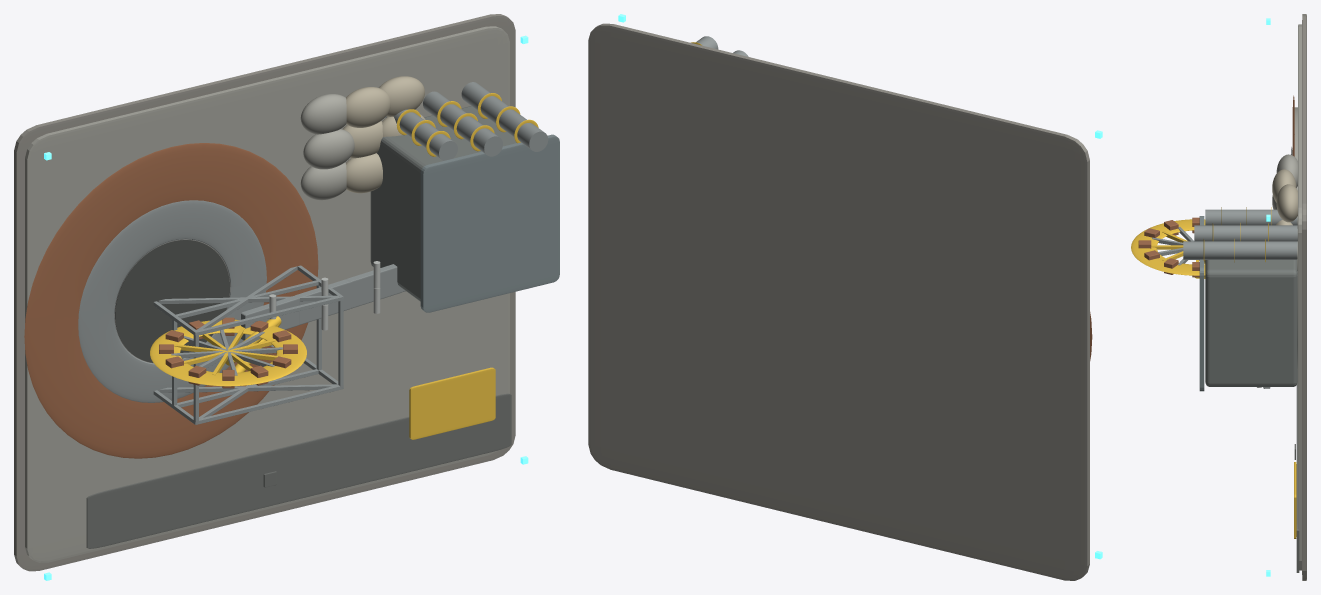
File: b-50-mineral-quarry-lod1.glb
The picture shows the model from 3 angles, left to right: view 1: azimuth 30°, elevation 25°; view 2: azimuth 150°, elevation 25°; view 3: azimuth 270°, elevation 25°; orthographic projection. The views are drawn at different scales.
Visible parts, largest first — view 1: foundation_inner_pad, quarry_terrace_outer, quarry_haul_road, quarry_crusher_house_roof, foundation, quarry_terrace_inner, quarry_cut, quarry_crusher_house_main_hall, quarry_pickup_socket, primary_bucket_wheel, dust_extractor_2_stack, dust_extractor_1_stack (+17 smaller); view 2: foundation; view 3: quarry_crusher_house_main_hall, foundation, dust_extractor_2_stack, foundation_inner_pad, dust_extractor_1_stack, primary_bucket_wheel, dust_extractor_0_stack, quarry_crusher_house_roof, mineral_stockpile_8, quarry_haul_road, mineral_stockpile_7, mineral_stockpile_6 (+1 smaller).
Part boxes in pixels (x1,y1,x2,y2): foundation_inner_pad: (25, 26, 509, 562); quarry_terrace_outer: (24, 143, 318, 458); quarry_haul_road: (86, 393, 511, 548); quarry_crusher_house_roof: (420, 134, 559, 312); foundation: (14, 14, 515, 571); quarry_terrace_inner: (78, 200, 266, 402); quarry_cut: (115, 240, 229, 362); quarry_crusher_house_main_hall: (370, 106, 516, 301); quarry_pickup_socket: (409, 367, 495, 439); primary_bucket_wheel: (150, 319, 306, 386); dust_extractor_2_stack: (461, 82, 548, 151); dust_extractor_1_stack: (423, 91, 502, 156); foundation: (588, 23, 1089, 580); quarry_crusher_house_main_hall: (1205, 260, 1297, 386); foundation: (1302, 14, 1306, 580); dust_extractor_2_stack: (1183, 241, 1297, 259); foundation_inner_pad: (1298, 24, 1301, 570); dust_extractor_1_stack: (1194, 225, 1297, 241); primary_bucket_wheel: (1131, 219, 1205, 275); dust_extractor_0_stack: (1205, 209, 1297, 225); quarry_crusher_house_roof: (1199, 216, 1204, 391); mineral_stockpile_8: (1276, 184, 1297, 222); quarry_haul_road: (1296, 370, 1299, 572); mineral_stockpile_7: (1272, 169, 1296, 202); mineral_stockpile_6: (1276, 154, 1297, 187).
Size of what is drawn, in the model's own units: 20 by 17 by 7.23.
